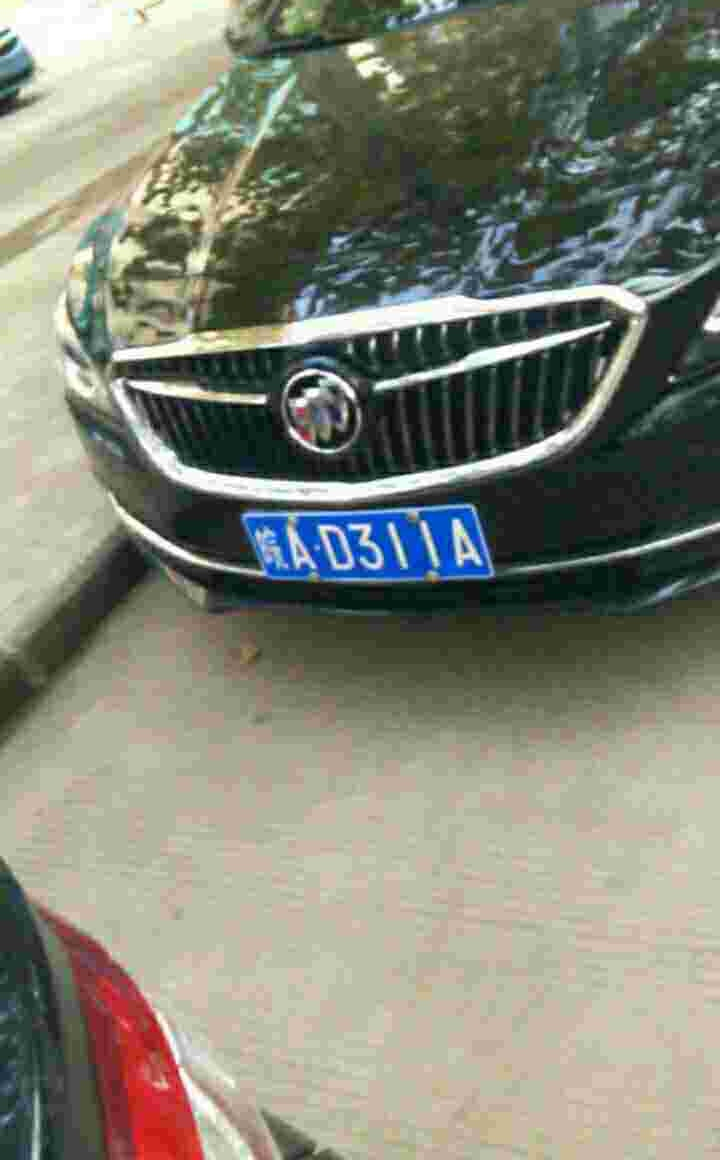license_plate: (239, 502, 505, 584)
